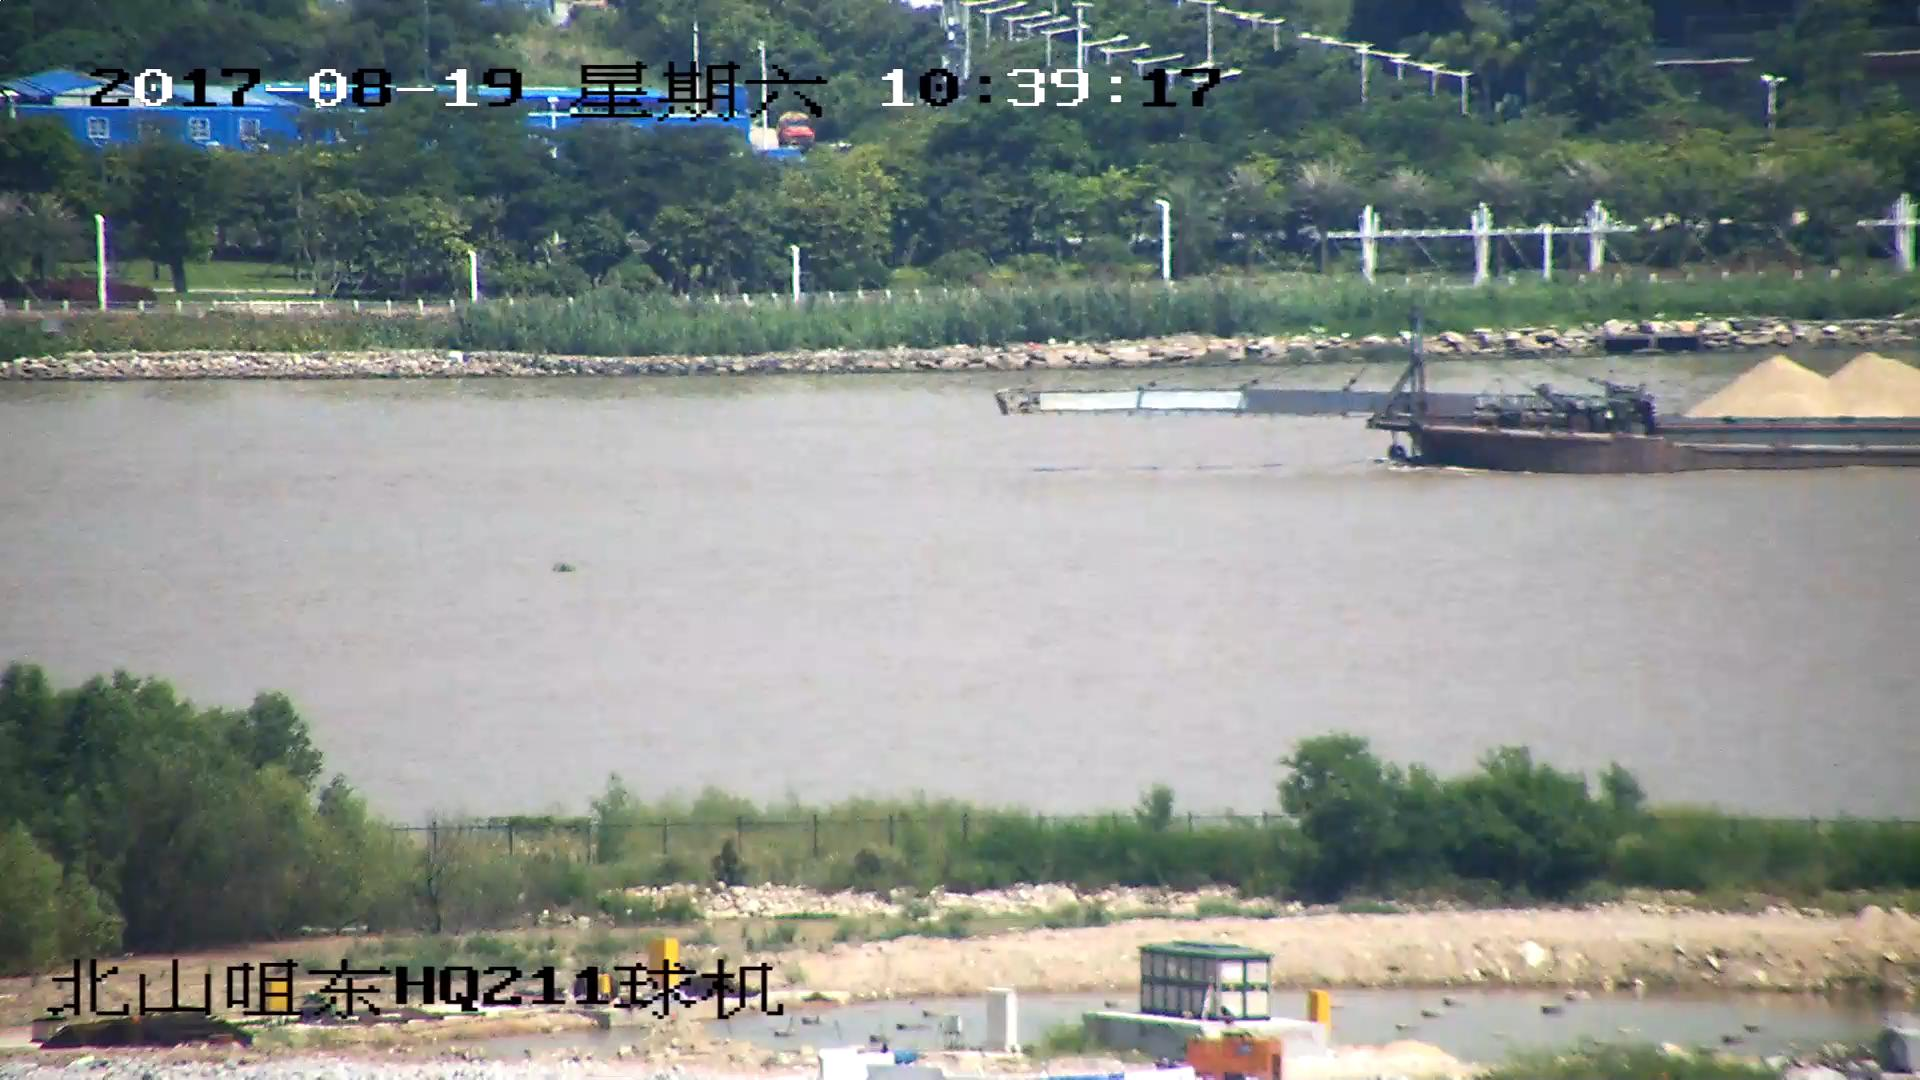ore carrier: (992, 299, 1920, 474)
